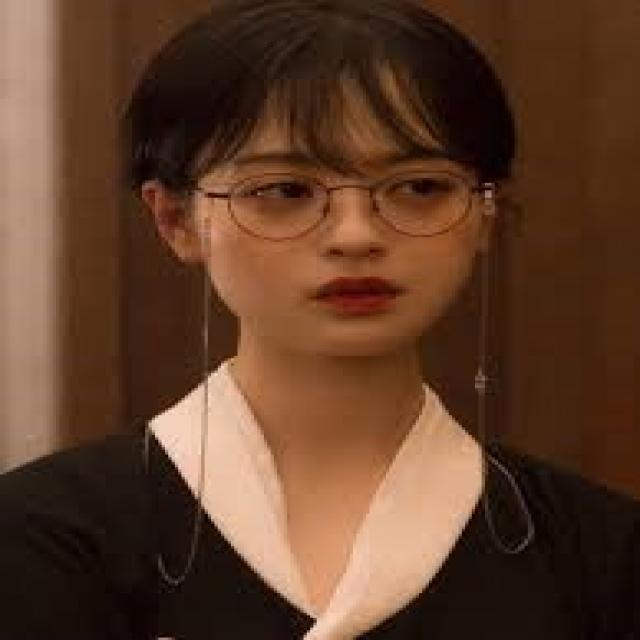Glasses: (158, 153, 518, 250)
